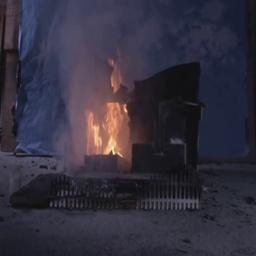fire: (72, 58, 144, 168)
